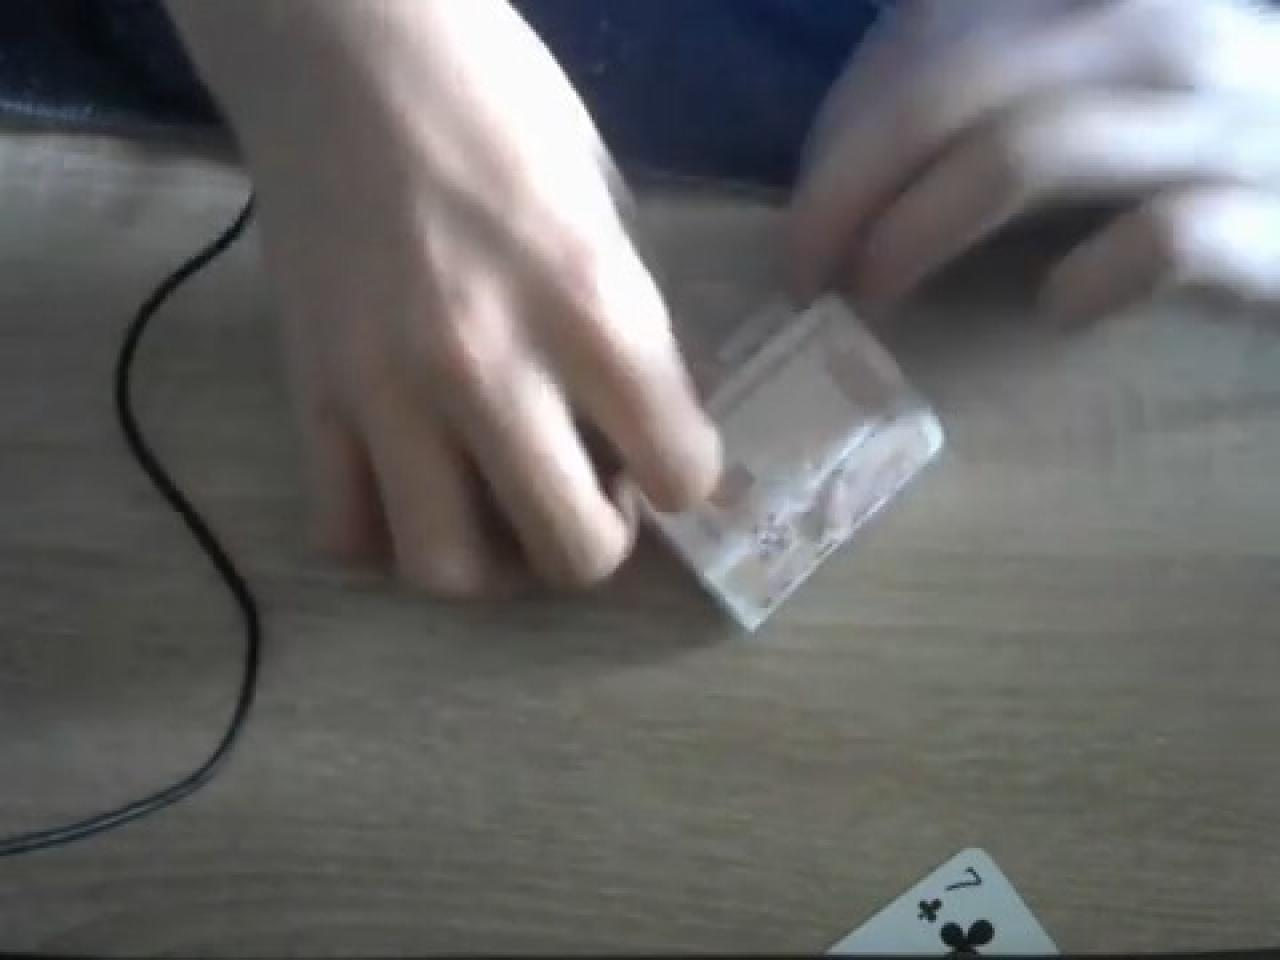5leva: (640, 296, 949, 634)
